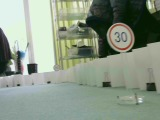speed_30: (103, 21, 137, 53)
